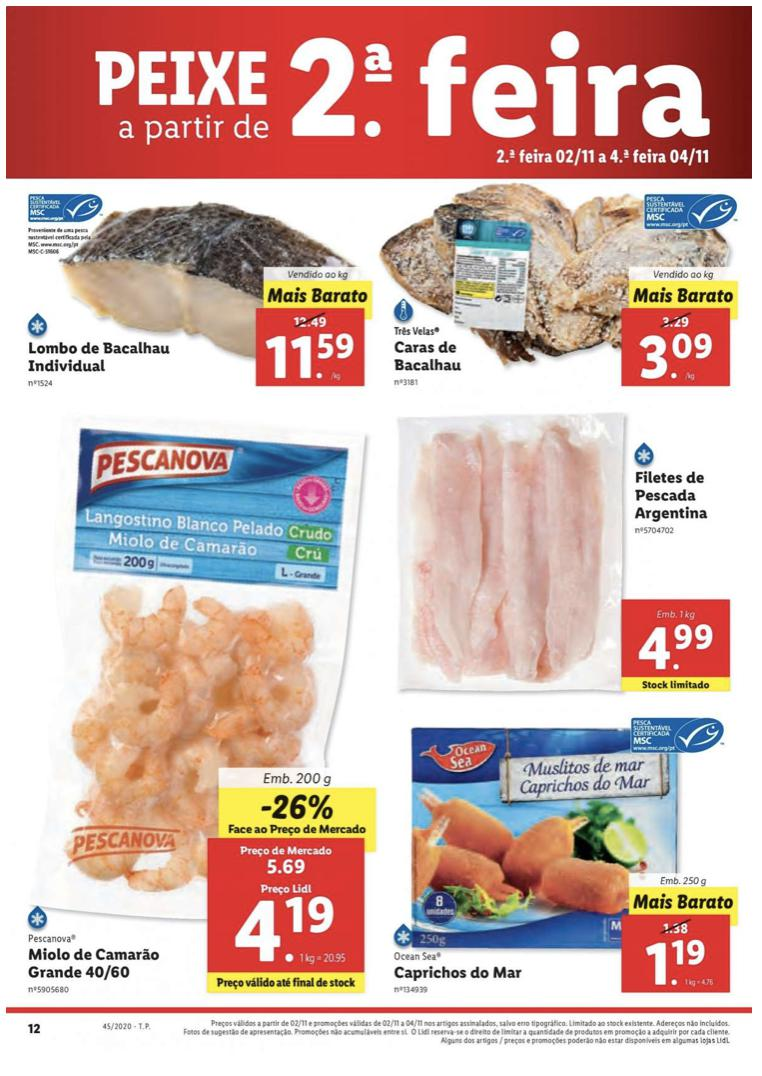name: (29, 942, 161, 981), (28, 339, 174, 374), (630, 465, 712, 523), (389, 338, 466, 377), (393, 962, 525, 983)
price: (236, 891, 337, 963), (634, 325, 721, 385), (636, 617, 718, 679), (266, 334, 360, 381), (646, 933, 710, 991)
product: (21, 419, 370, 999), (386, 401, 744, 715), (386, 715, 737, 999), (374, 173, 744, 401), (14, 183, 377, 407)
promotion: (258, 790, 334, 822)
